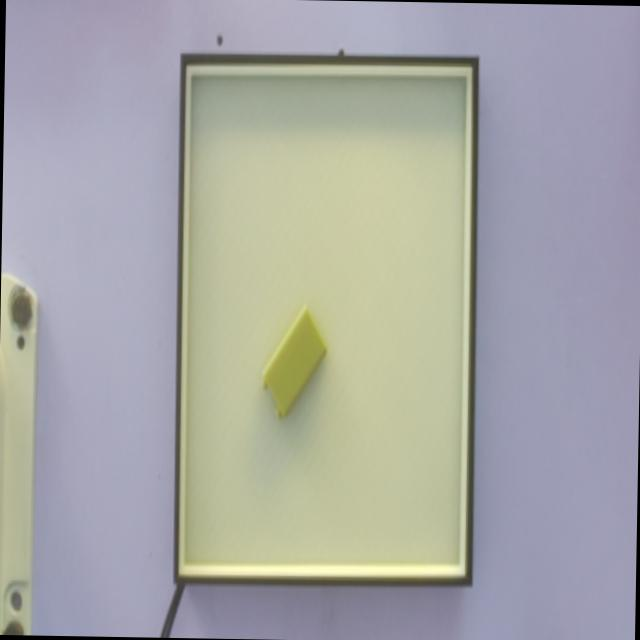bateria: (260, 304, 329, 422)
mesa: (173, 52, 479, 585)
